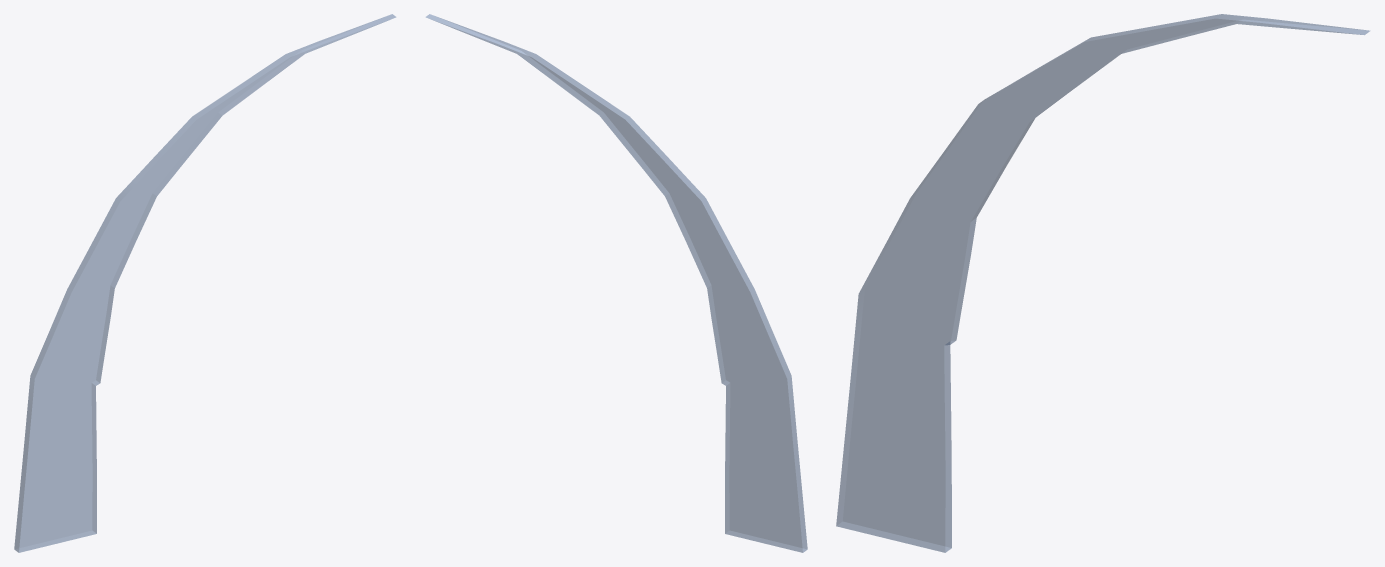
The model's file is Romanglass_back.fbx.
The picture shows the model from 3 angles, left to right: view 1: azimuth 30°, elevation 25°; view 2: azimuth 150°, elevation 25°; view 3: azimuth 330°, elevation 25°; orthographic projection. The views are drawn at different scales.
Parts seen in each view (by area): view 1: glass_back; view 2: glass_back; view 3: glass_back.
Boxes of the visible parts, x1,y1,x2,y2 form: glass_back: (14,14,395,552); glass_back: (426,14,807,552); glass_back: (836,14,1369,552).
Size of the model in its own units: 1157 by 1297 by 25.16.
